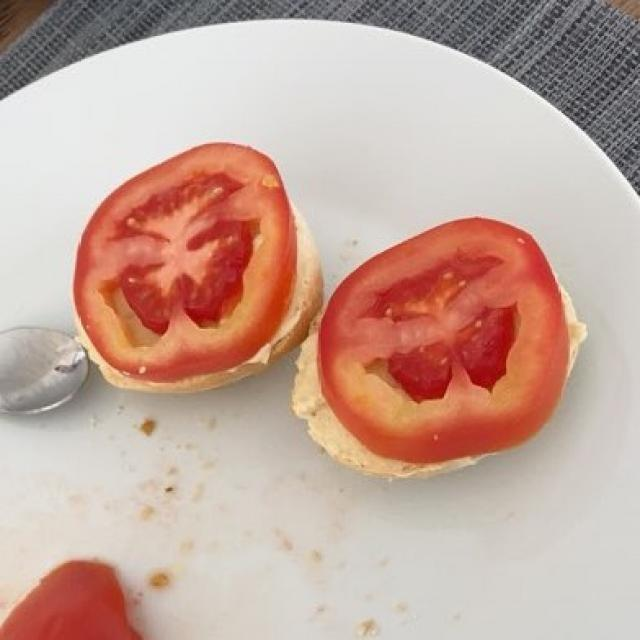bread: (75, 206, 473, 474)
tomato: (82, 151, 570, 458)
